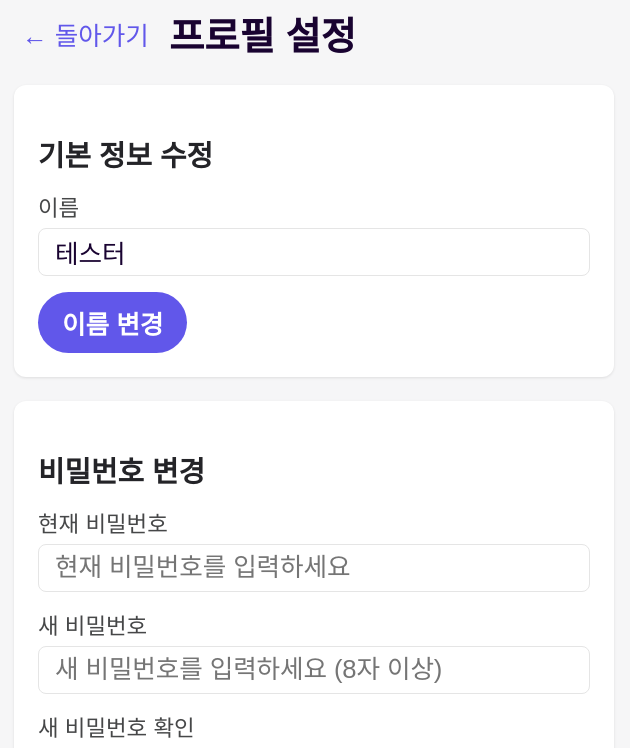
it: ProfileEditForm › 이름 수정 섹션 › 이름을 비우고 제출하면 에러 메시지를 표시한다
Clear the field labelled "이름": (314, 252) [38, 228, 590, 276]
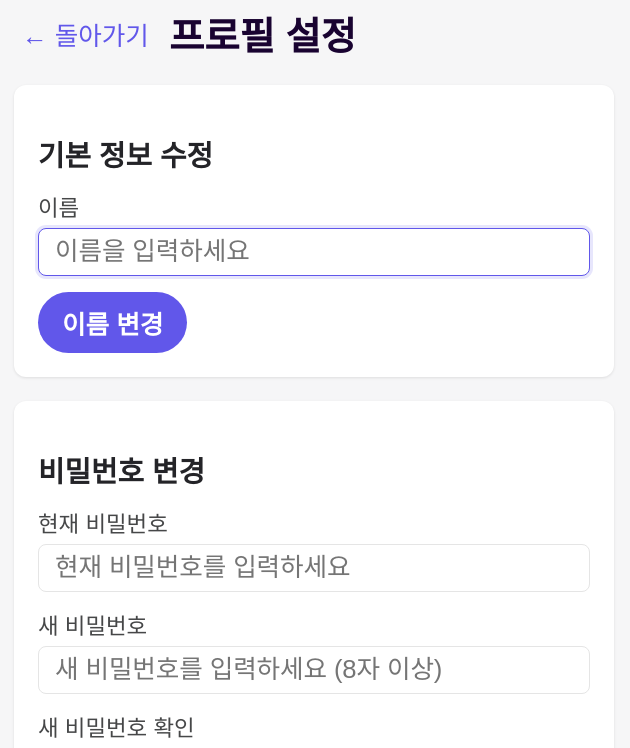
Click the button "이름 변경": (113, 322) [38, 292, 187, 353]
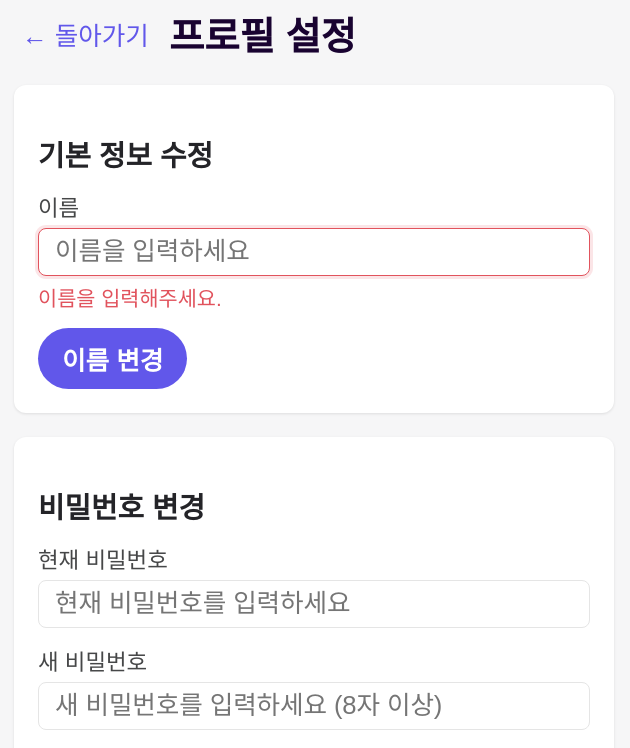
Check: the text "이름을 입력해주세요." is shown, box [38, 287, 222, 310]
